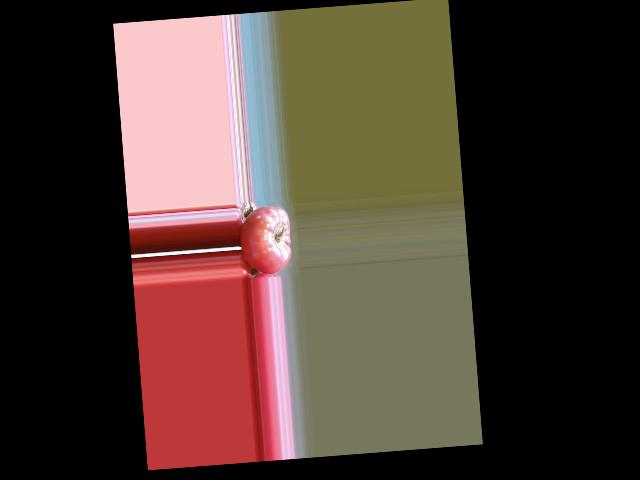tomato: (237, 204, 293, 277)
